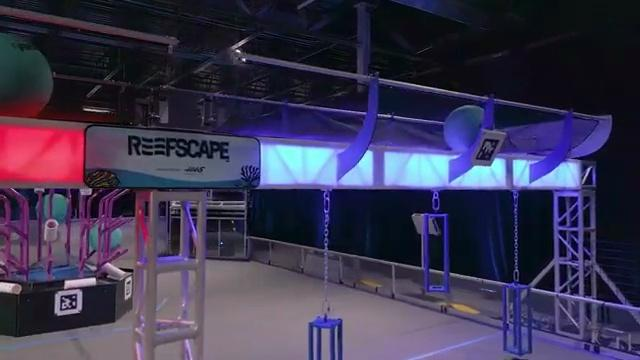ALGAE: (0, 31, 54, 118), (444, 106, 496, 154)
